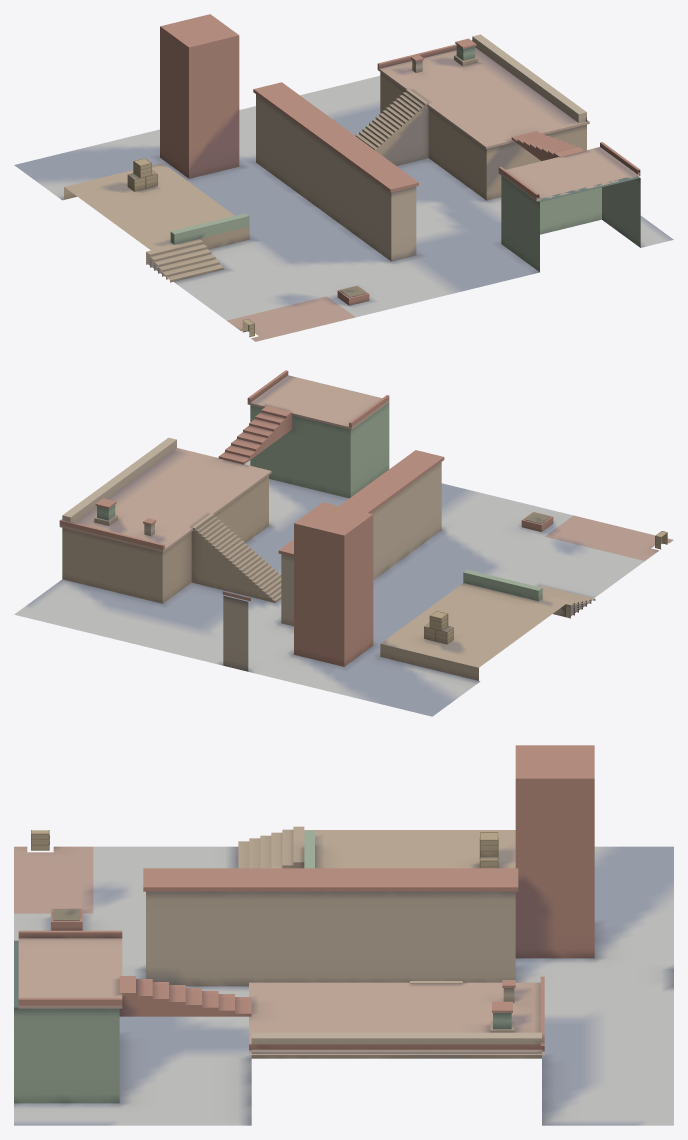
3 renders of one model, top to bottom at view 1: azimuth 30°, elevation 25°; view 2: azimuth 150°, elevation 25°; view 3: azimuth 270°, elevation 25°, orthographic. The views are drawn at different scales.
Visible parts, largest first — view 1: t; view 2: t; view 3: t.
Boxes of the visible parts, x1=… form: t: x1=14, y1=14, x2=673, y2=341; t: x1=14, y1=370, x2=673, y2=716; t: x1=14, y1=745, x2=673, y2=1125.
Size of the model in its own units: 50.6 by 15 by 50.
